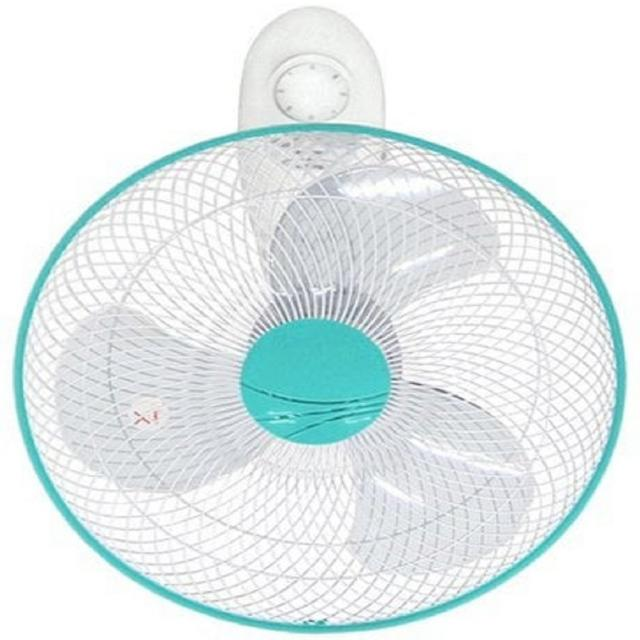fan: (3, 5, 611, 629)
